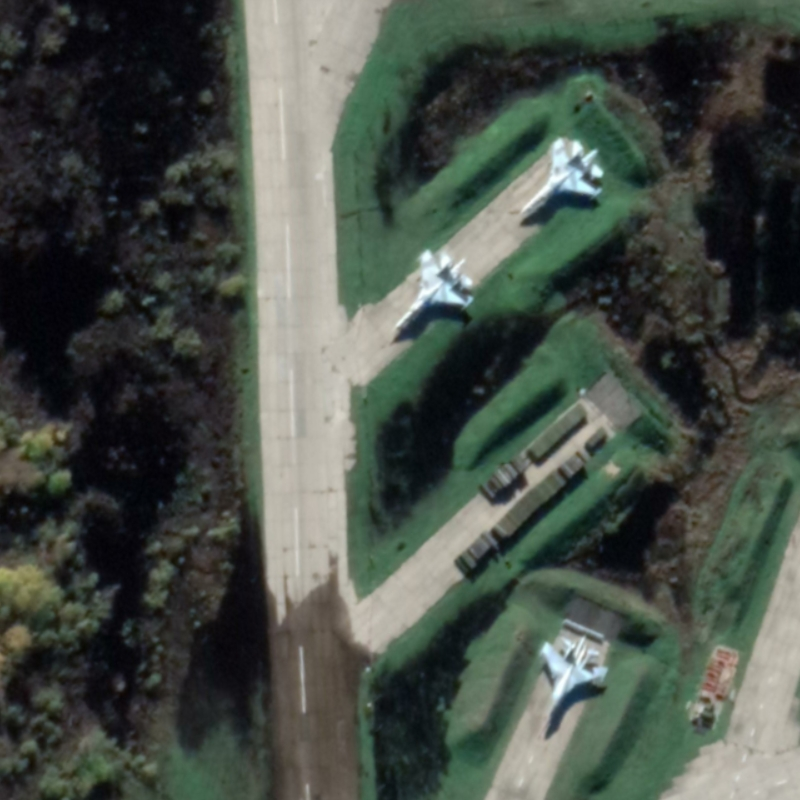A1: (387, 246, 478, 345), (535, 632, 613, 741), (516, 135, 606, 218)
